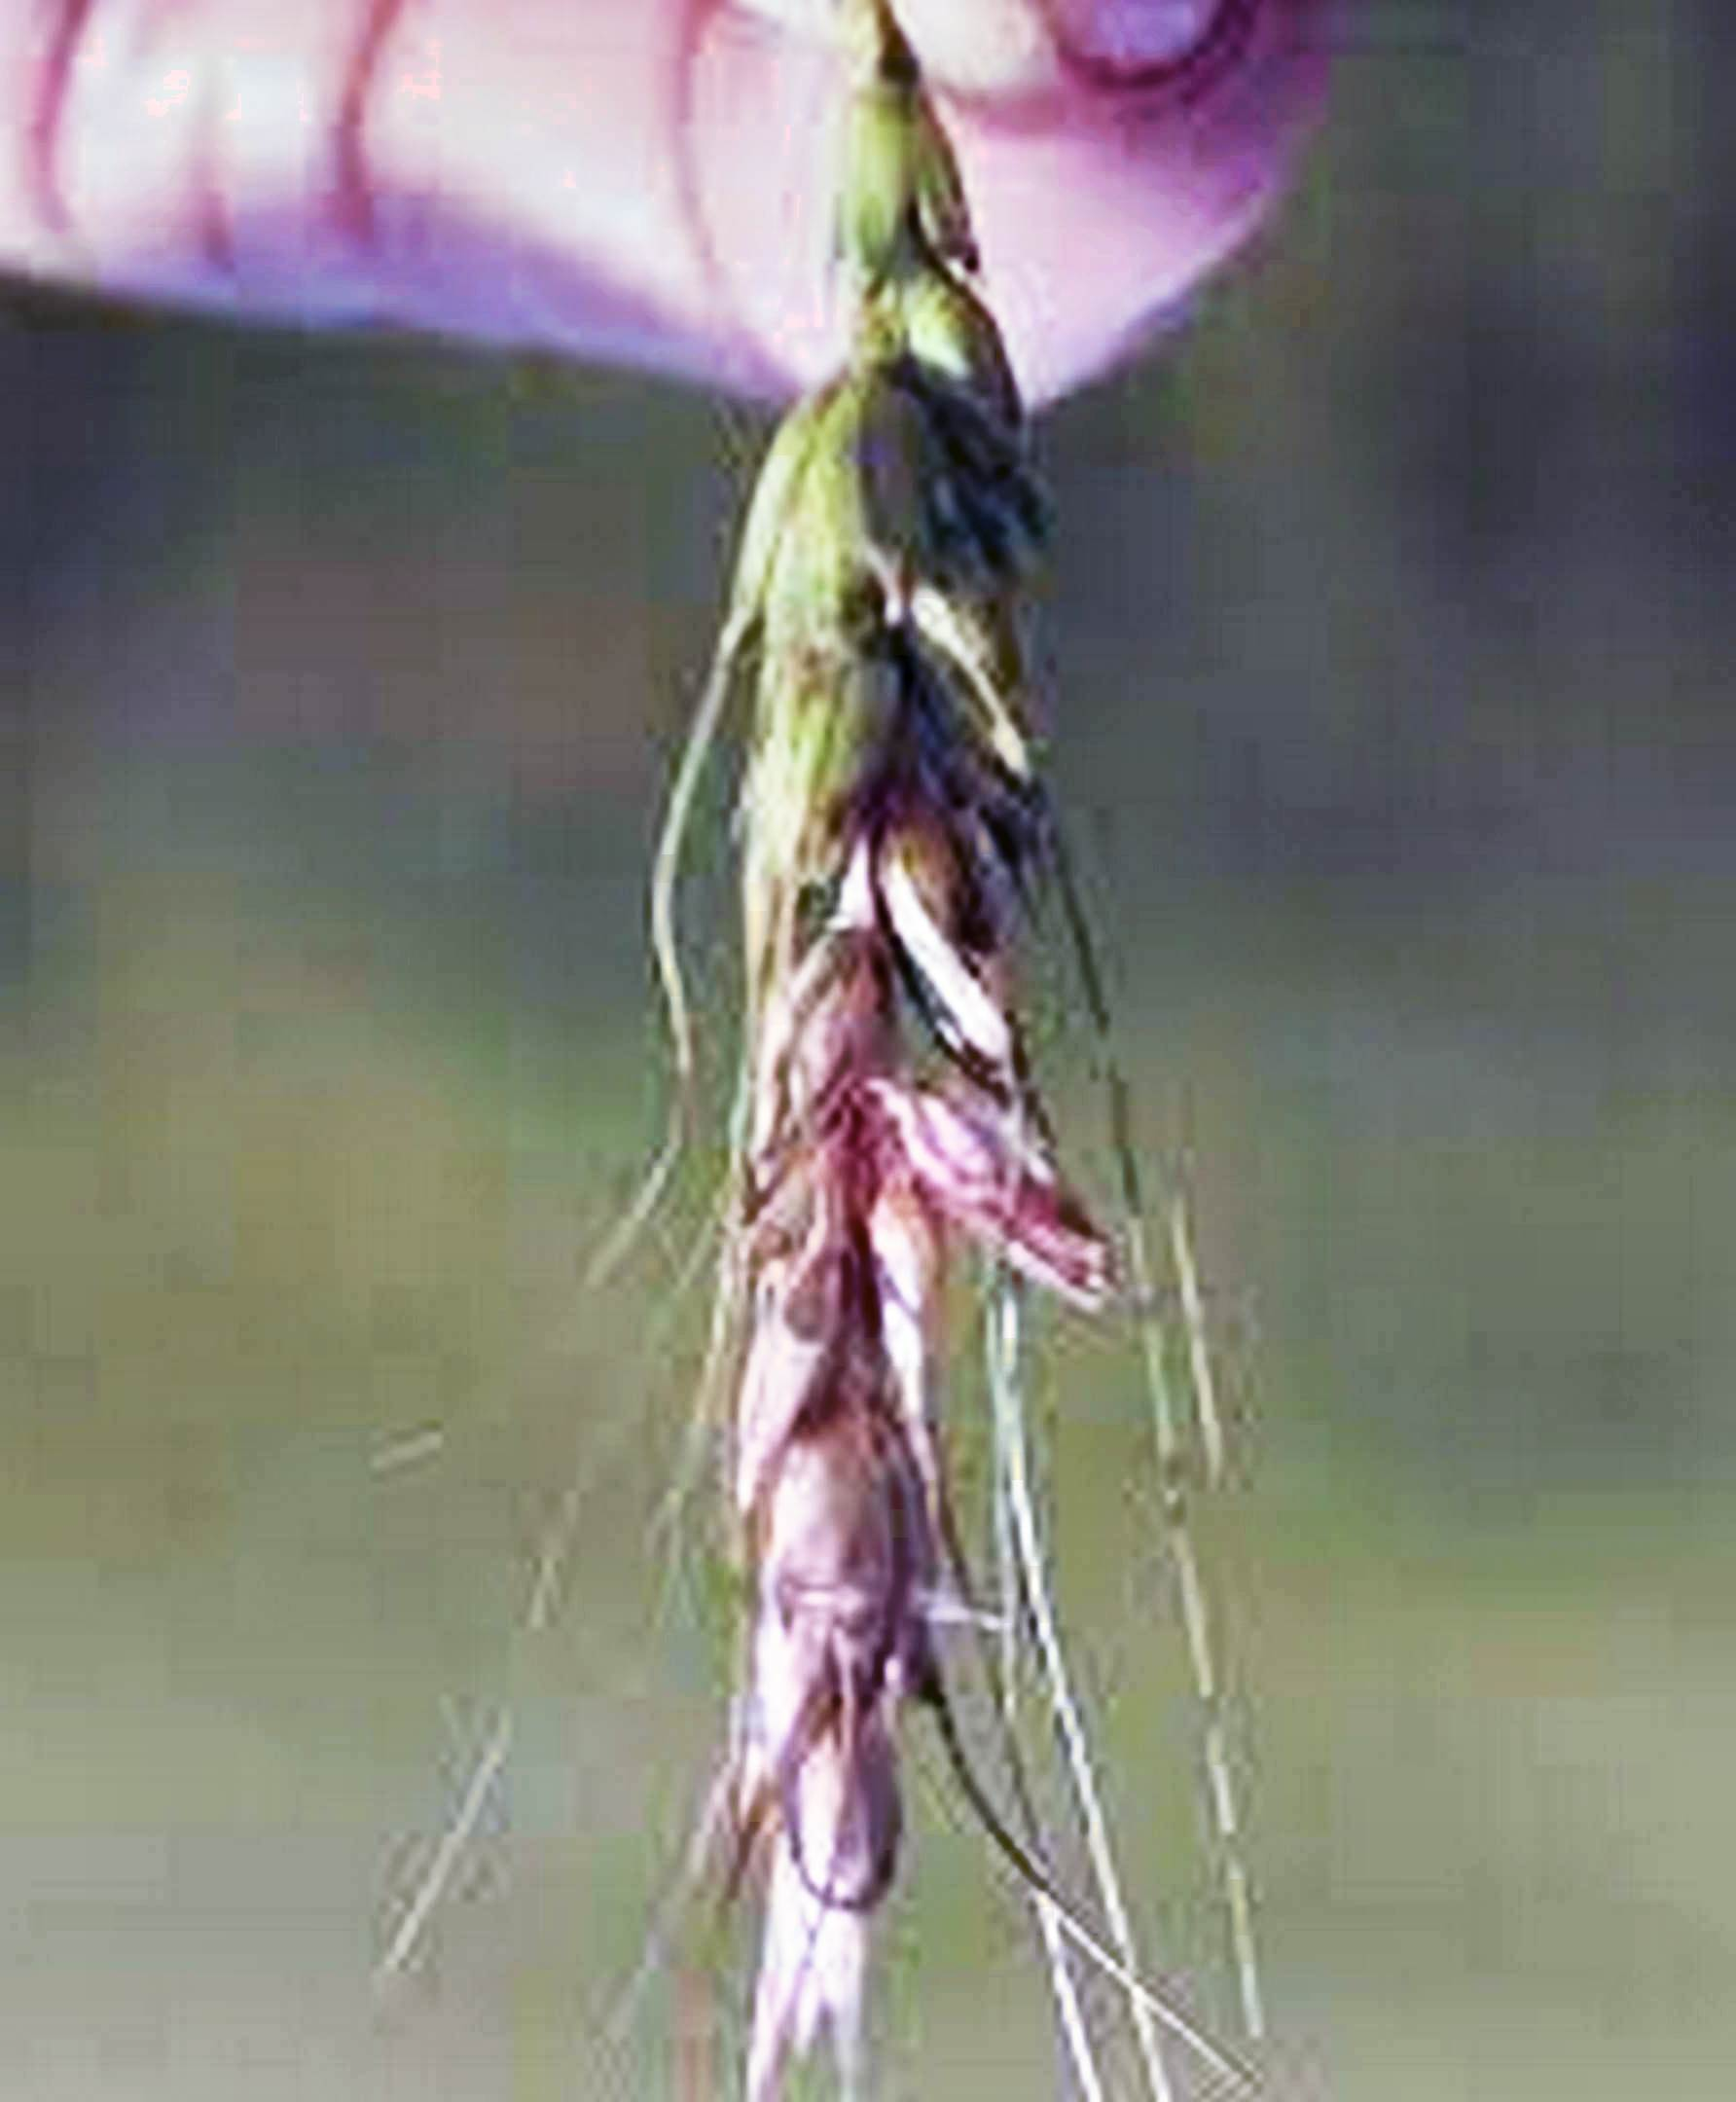Wheat scab: (627, 211, 1172, 2011)
